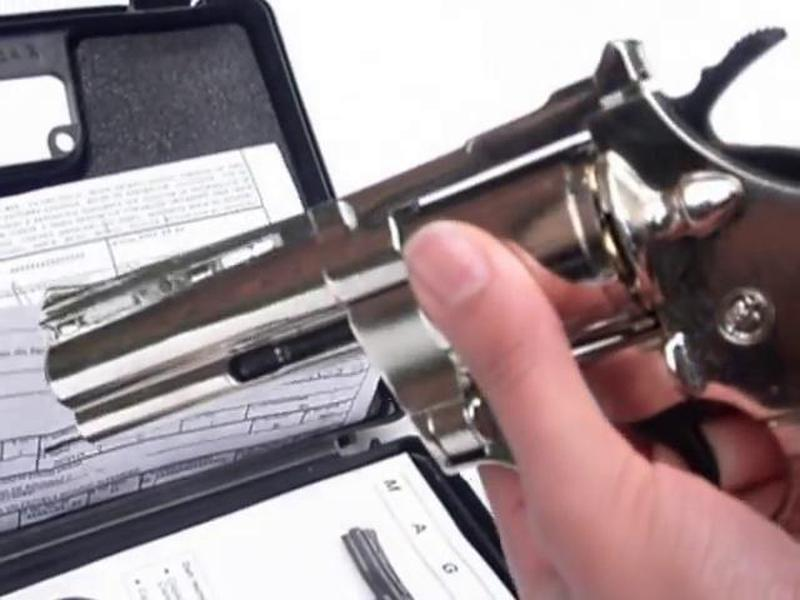Revolver: (23, 57, 800, 467)
